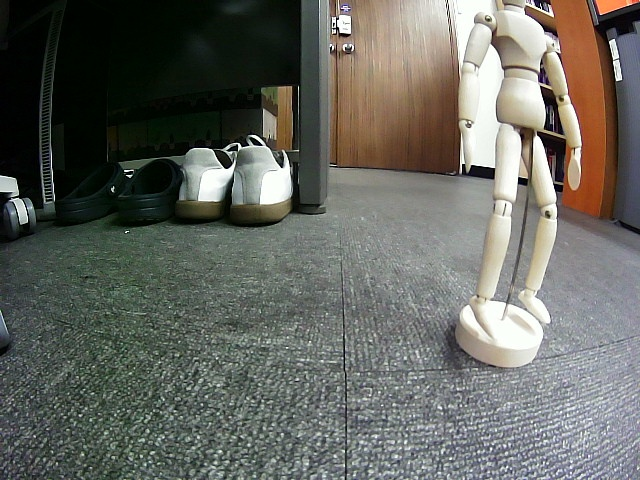person: (458, 1, 582, 340)
